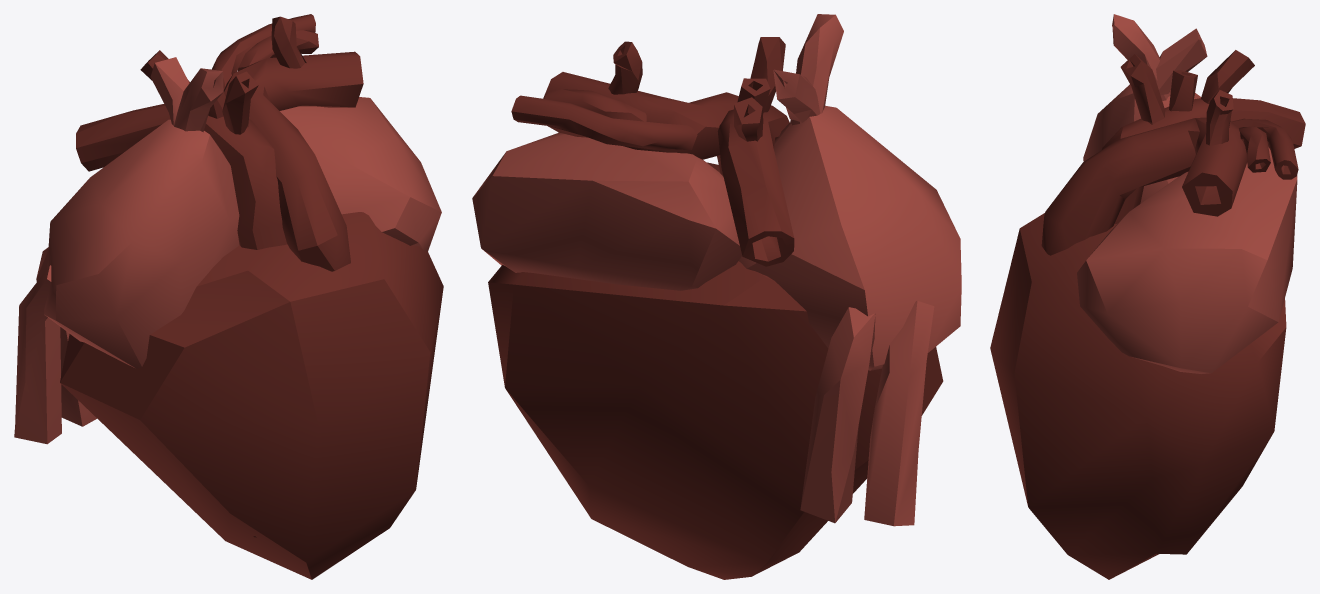
File: coeur.fbx
3 renders of one model, left to right at view 1: azimuth 30°, elevation 25°; view 2: azimuth 150°, elevation 25°; view 3: azimuth 270°, elevation 25°, orthographic. The views are drawn at different scales.
Parts seen in each view (by area): view 1: Sphere, BézierCurve.006, BézierCurve.004, Sphere.002, BézierCurve.003, BézierCurve.005; view 2: Sphere, BézierCurve.006, Sphere.002, BézierCurve.003, BézierCurve.005, BézierCurve.004; view 3: Sphere, Sphere.002, BézierCurve.004, BézierCurve.003, BézierCurve.006, BézierCurve.005.
Part boxes in pixels (<box>): Sphere: <box>60,212,443,579</box>; BézierCurve.006: <box>14,57,239,444</box>; BézierCurve.004: <box>223,51,363,271</box>; Sphere.002: <box>280,97,441,251</box>; BézierCurve.003: <box>76,50,286,537</box>; BézierCurve.005: <box>211,14,318,89</box>; Sphere: <box>488,162,943,579</box>; BézierCurve.006: <box>739,14,961,526</box>; Sphere.002: <box>472,132,742,290</box>; BézierCurve.003: <box>717,37,794,266</box>; BézierCurve.005: <box>511,41,697,149</box>; BézierCurve.004: <box>543,72,738,175</box>; Sphere: <box>990,213,1286,579</box>; Sphere.002: <box>1077,147,1297,373</box>; BézierCurve.004: <box>1041,117,1247,255</box>; BézierCurve.003: <box>1102,50,1305,224</box>; BézierCurve.006: <box>1083,14,1207,203</box>; BézierCurve.005: <box>1206,90,1298,179</box>.
Size of the model in its own units: 151 by 198 by 109.
